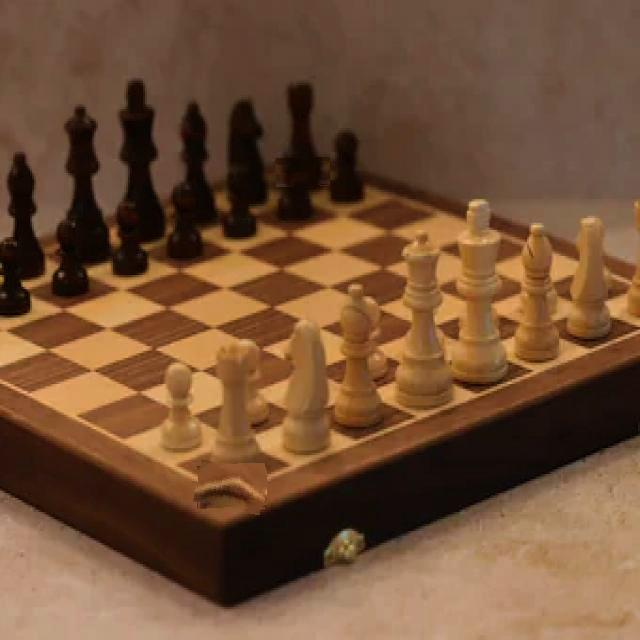chess-table-corners: (195, 463, 267, 512), (276, 158, 330, 187)
